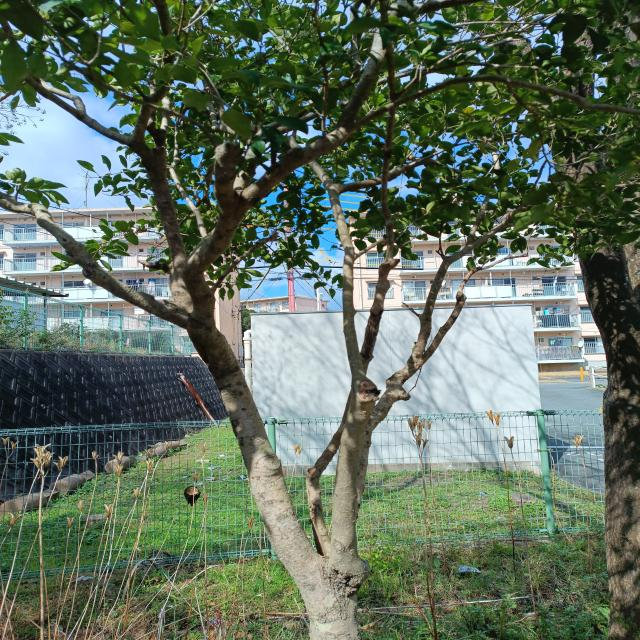Branch: (170, 122, 352, 324), (188, 314, 321, 575), (1, 192, 189, 330), (331, 376, 379, 554), (143, 146, 187, 277), (368, 366, 411, 433), (214, 141, 240, 208)
Twig: (403, 205, 532, 365), (286, 135, 366, 382), (335, 0, 486, 127), (352, 75, 640, 131), (361, 0, 399, 373), (411, 254, 526, 373), (26, 72, 149, 157), (132, 0, 175, 143), (170, 103, 206, 236), (337, 157, 461, 193), (465, 138, 500, 246), (357, 217, 419, 258), (40, 77, 87, 115)
